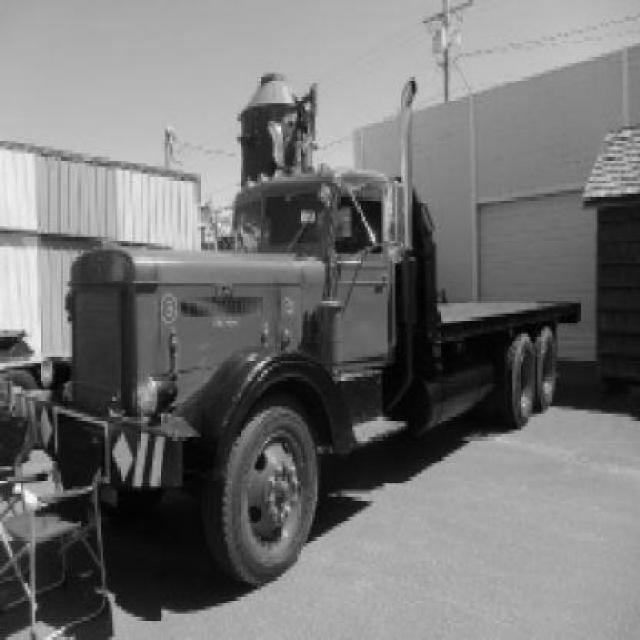Truck- Multi-Axle: (15, 80, 586, 588)
